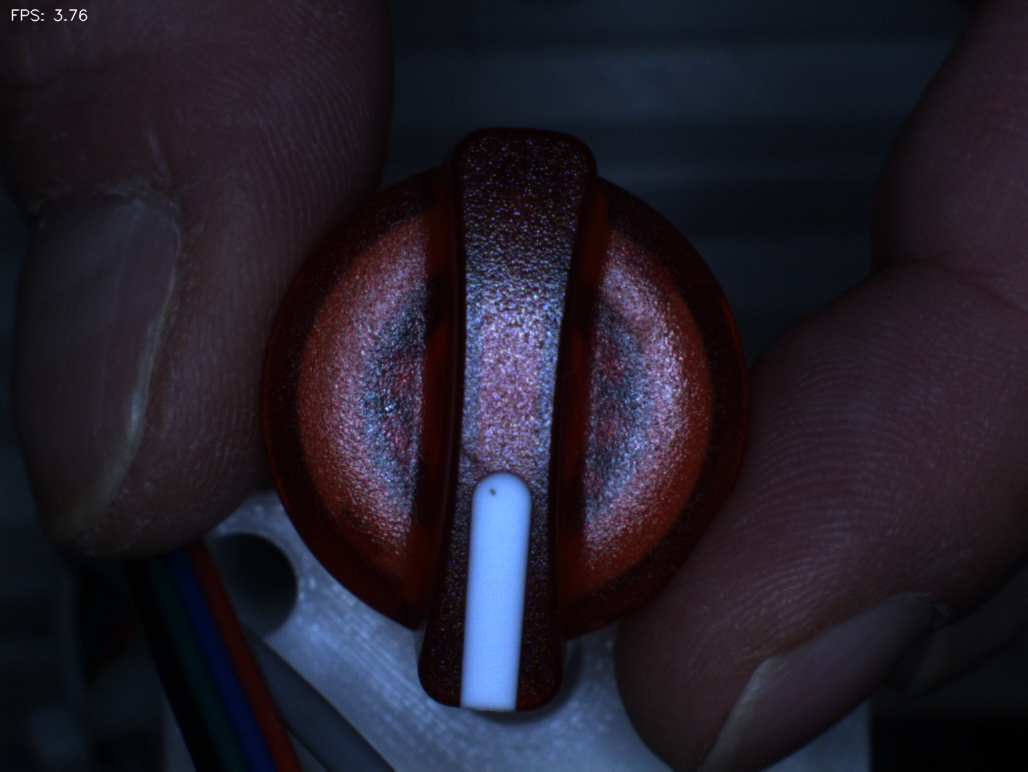PointNoir: (456, 458, 523, 526)
